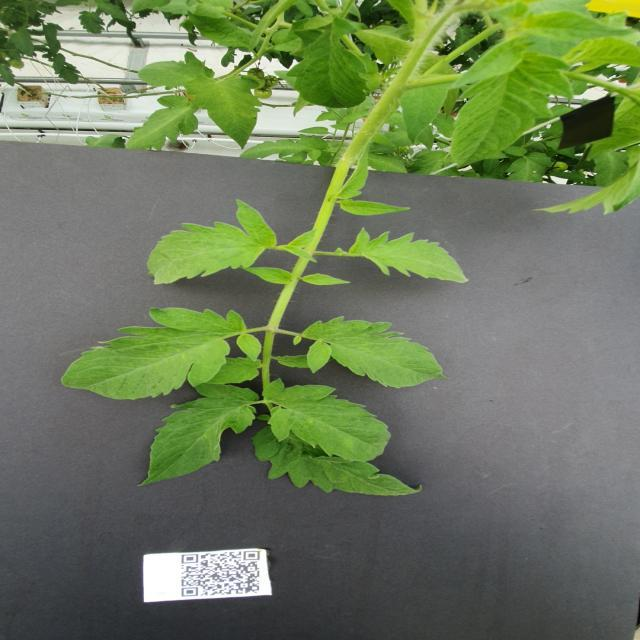Tomato healthy leaf: (60, 306, 262, 401), (452, 51, 571, 169), (252, 426, 424, 502), (137, 383, 261, 487), (145, 198, 277, 286), (300, 315, 452, 389), (261, 376, 391, 462), (284, 15, 369, 109), (348, 225, 470, 284), (184, 76, 262, 150), (444, 36, 530, 86), (124, 95, 200, 151), (400, 84, 452, 146), (136, 50, 215, 90), (240, 133, 328, 163), (186, 10, 250, 48), (208, 356, 263, 384), (338, 198, 412, 217), (239, 264, 293, 284), (302, 271, 352, 286), (298, 126, 329, 135)
